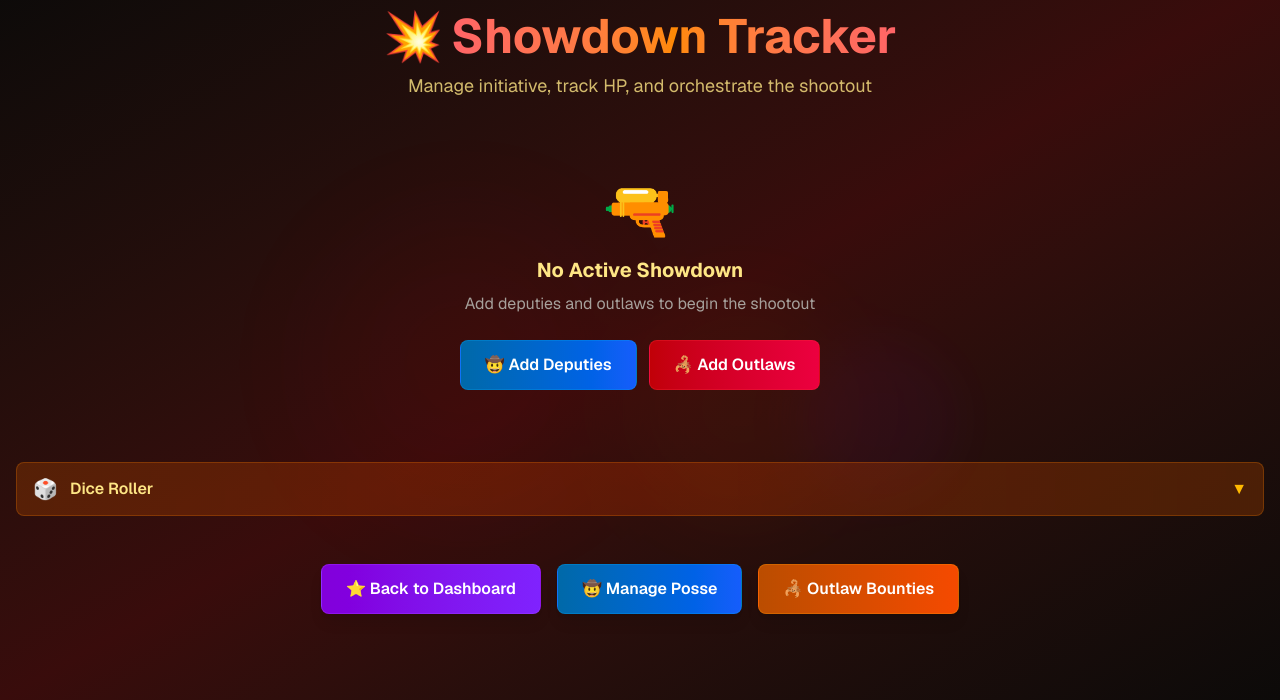
it: CombatPage › accessibility › should have panel with matching id
Click the button "🎲 Dice Roller ▼": (112, 488) [16,462,1264,516]
(page scrolled)
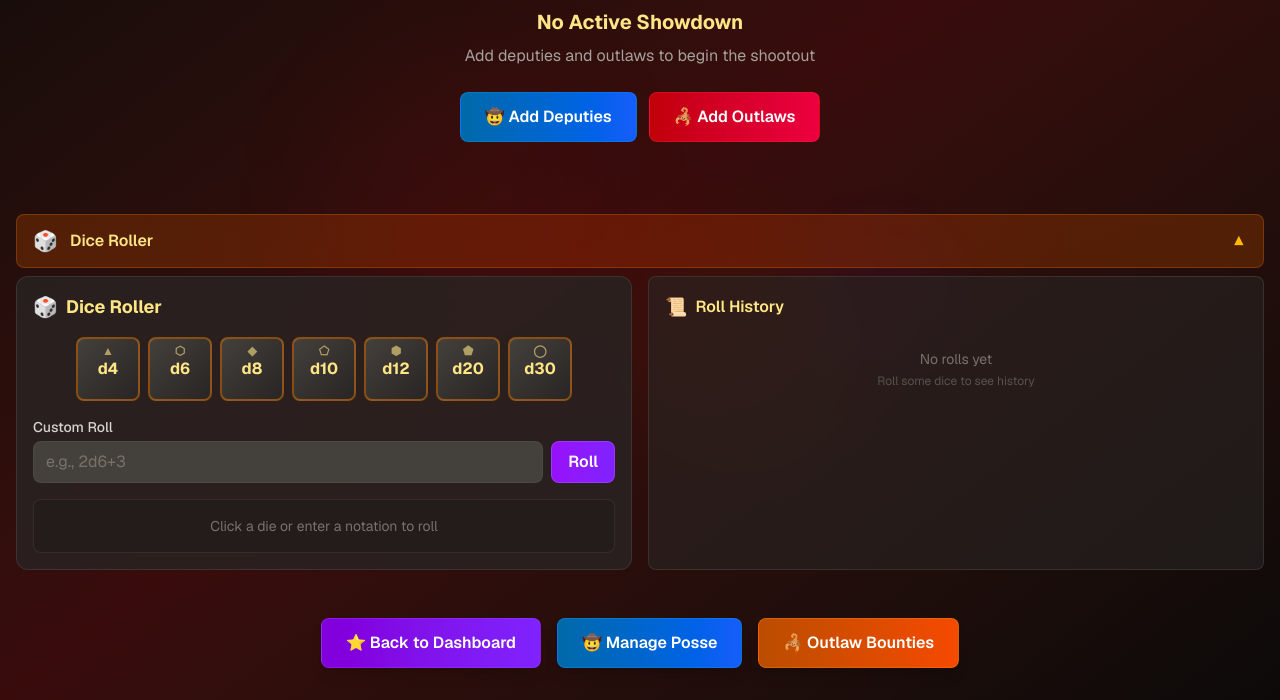
Now the element with id "dice-roller-panel" is shown, box [16,276,1264,570]
